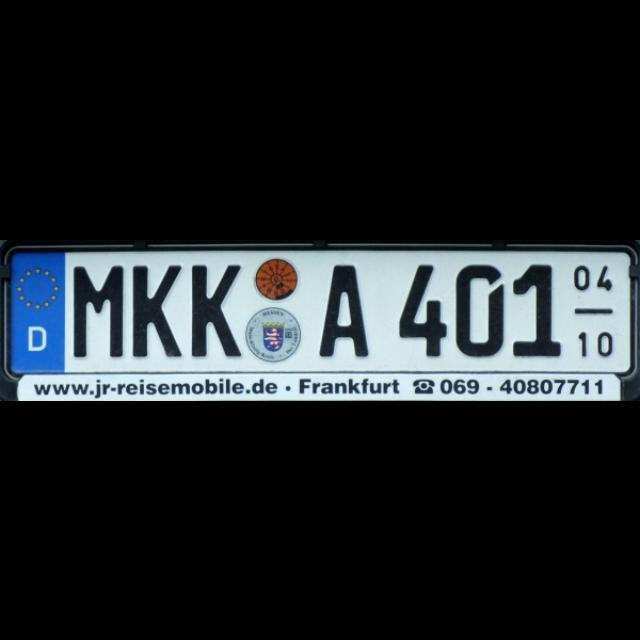license-plates: (0, 242, 638, 401)
